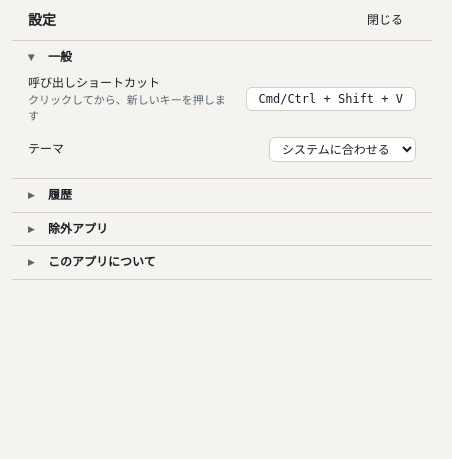
Test: SettingsWindow › 履歴の上限 › 削除される履歴が無いとき、確認なしで保存する
Click the button "▸ 履歴". click: (31, 194)
box: x1=12 y1=179 x2=432 y2=212
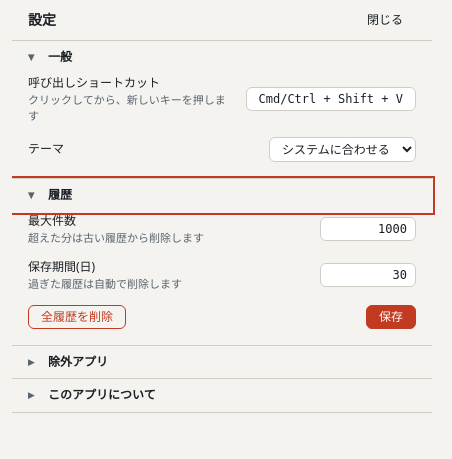
Replace the text in the field labelled "最大件数" with "2000". click: (368, 229)
box: x1=320 y1=217 x2=416 y2=241
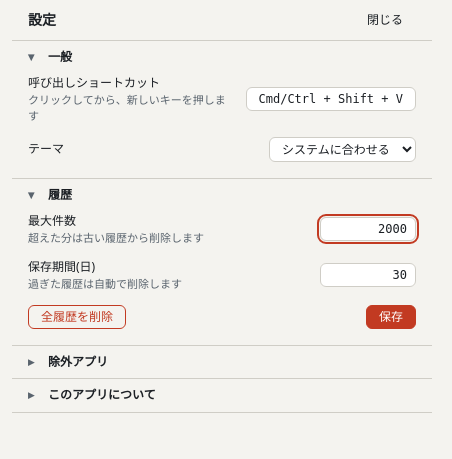
Click the button "保存". click: (391, 317)
box: x1=366 y1=305 x2=416 y2=329
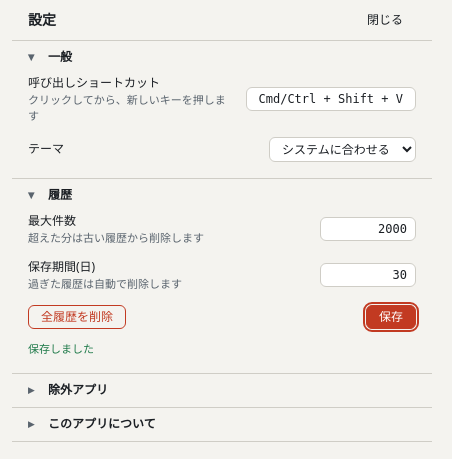
expect the message reads "保存しました": met, box x1=28 y1=341 x2=94 y2=356
